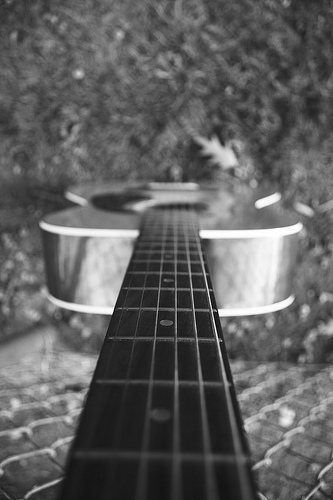guitar: (29, 177, 306, 500)
